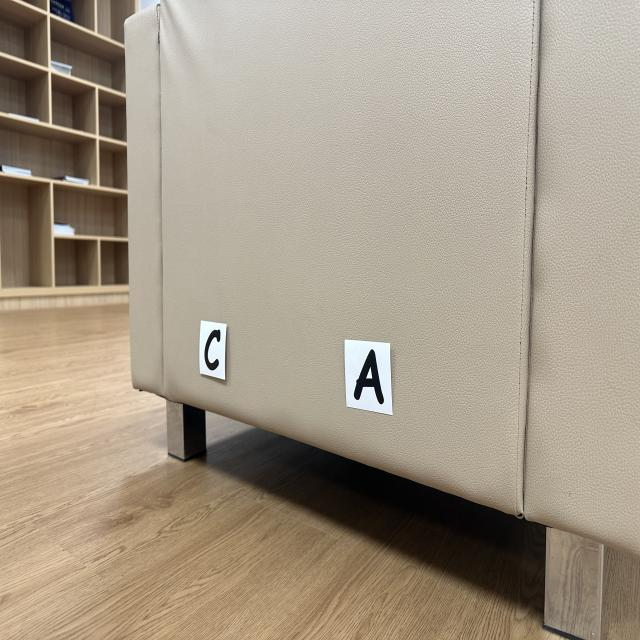A: (354, 350, 384, 403)
C: (204, 330, 220, 370)
